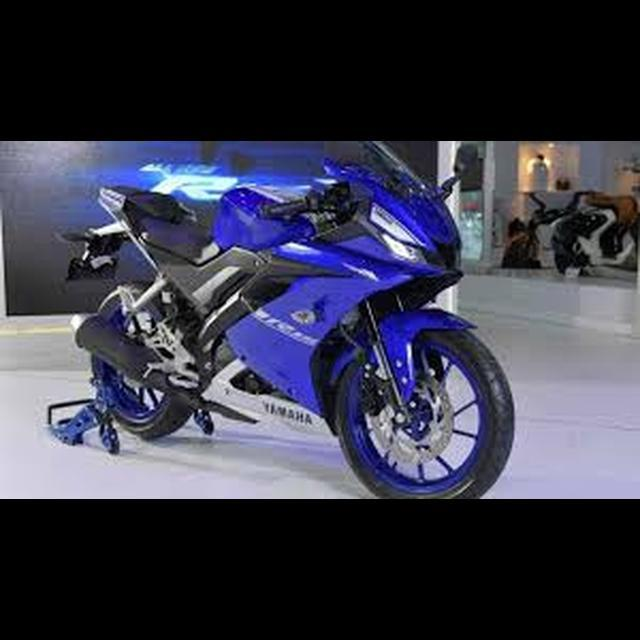motorcycle: (41, 141, 515, 499)
